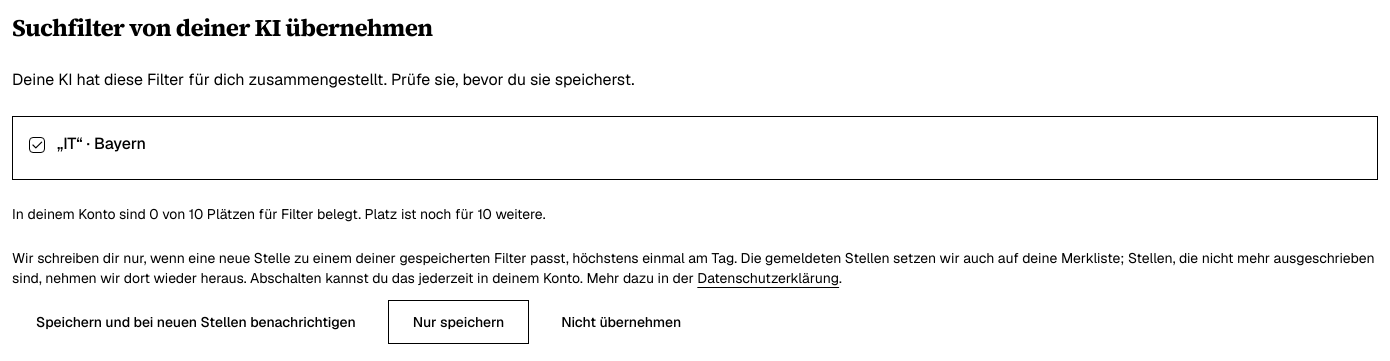
it: SuchprofilImport › schaltet die Benachrichtigung nur ueber den ausdruecklichen Knopf ein
Click the button "Speichern und bei neuen Stellen benachrichtigen". click: (196, 322)
box: 12,300 -> 380,344
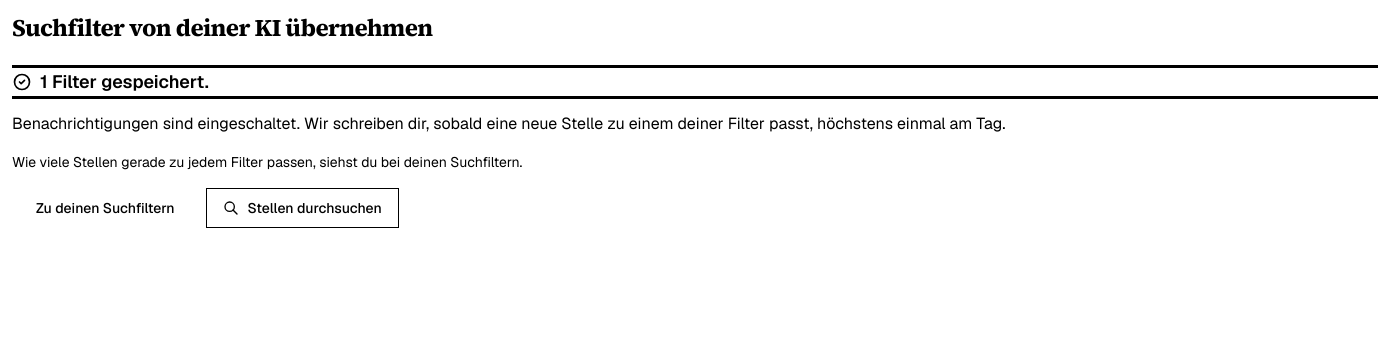
Expected: the text "Benachrichtigungen sind eingeschaltet" is shown, 12,113 -> 1006,134
